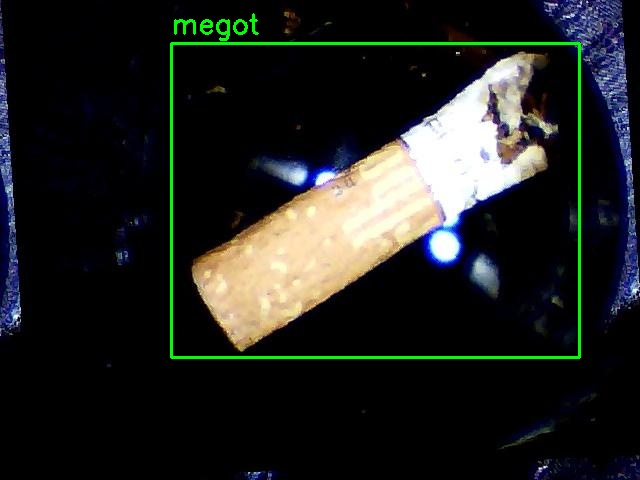megot: (171, 43, 579, 357)
